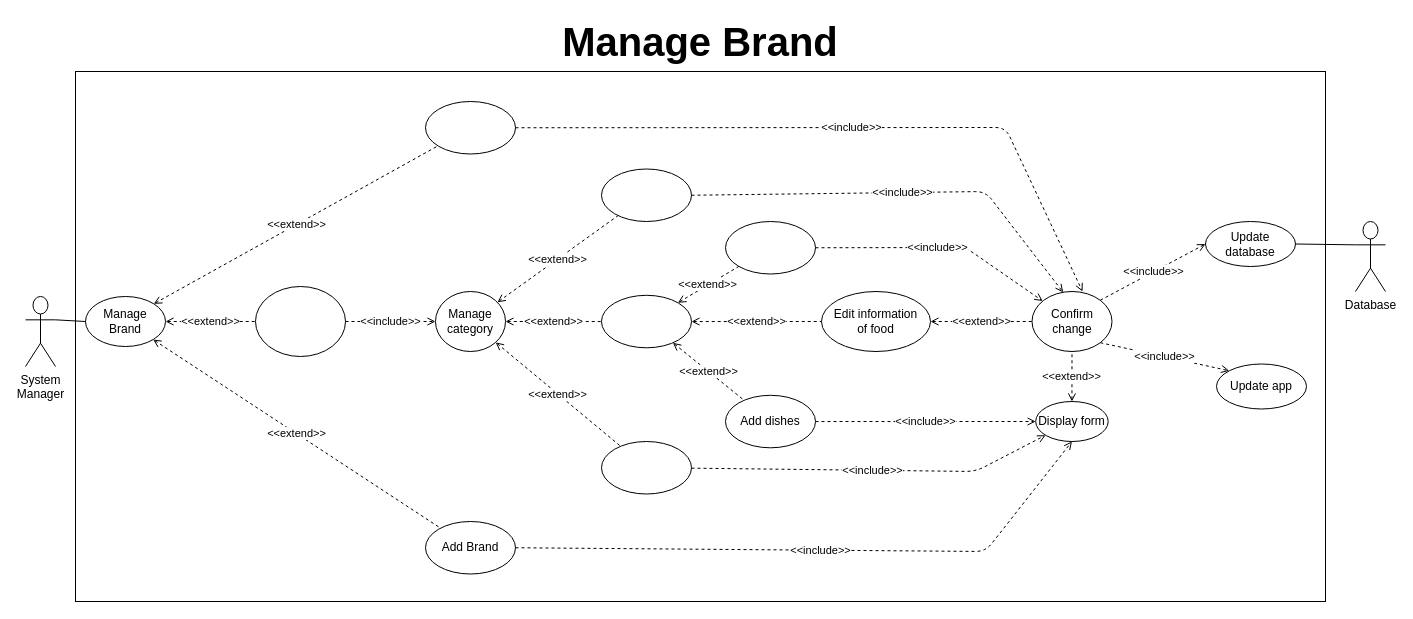
The diagram is 1413 pixels wide and 619 high, and some of its shapes have lost their labels. The shapes that lost their labels are listed below. From the top down, each one's centre as x and y in pixels, then its label:
(x=470, y=127): Delete Brand
(x=646, y=195): Delete category
(x=770, y=247): Delete dishes
(x=300, y=321): Manage Brand menu
(x=646, y=321): Manage dishes
(x=646, y=467): Add category
